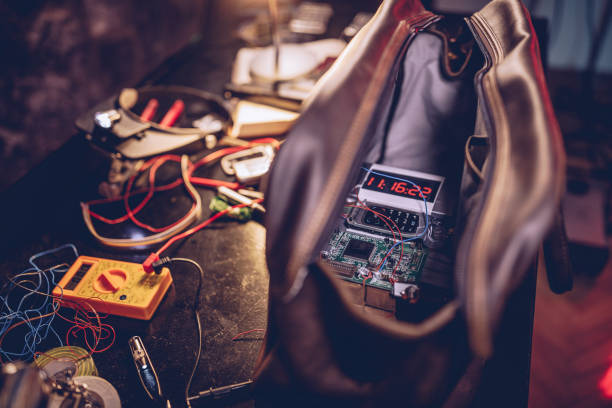terrorist: (72, 22, 464, 337)
